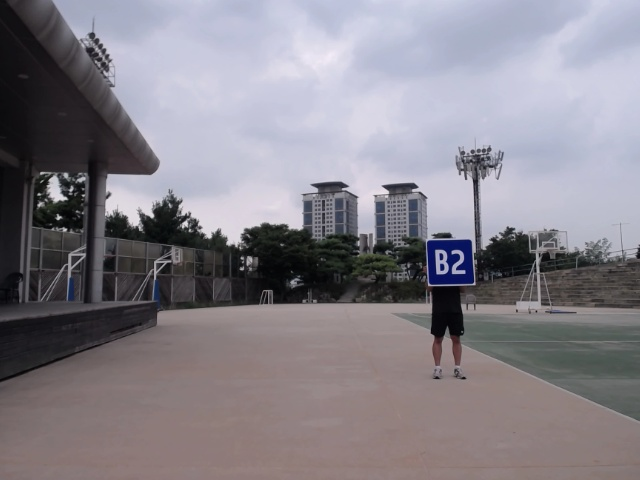delivery_b2: (425, 237, 476, 287)
